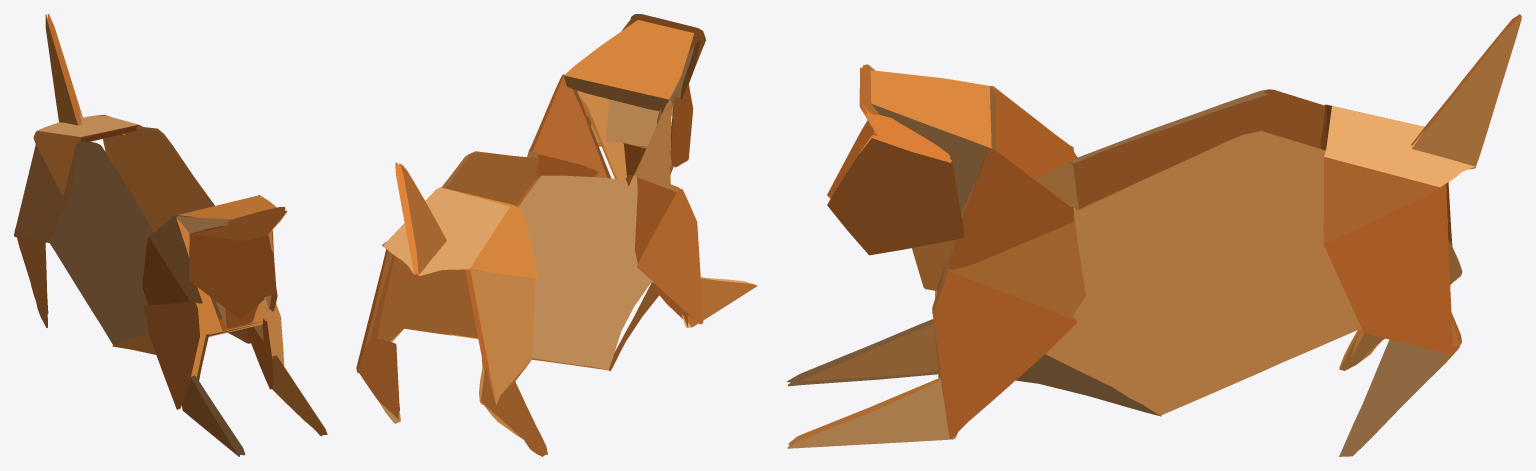
Rendered from foldling_cat.glb.
3 renders of one model, left to right at view 1: azimuth 30°, elevation 25°; view 2: azimuth 150°, elevation 25°; view 3: azimuth 270°, elevation 25°, orthographic. The views are drawn at different scales.
Parts seen in each view (by area): view 1: kucing; view 2: kucing; view 3: kucing.
Boxes of the visible parts, x1,y1,x2,y2 form: kucing: (14,14,327,456); kucing: (356,14,757,456); kucing: (786,14,1521,456).
Bounding box in the file's own units: 0.5469 × 1.14 × 1.9.
